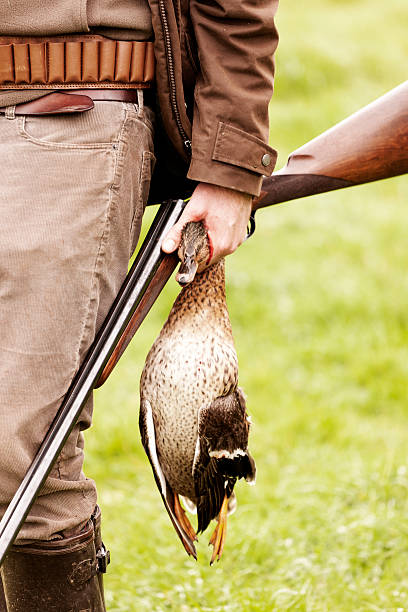shotgun: (54, 197, 189, 436)
